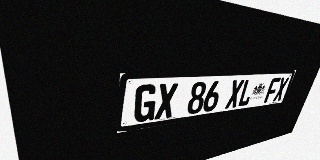6: (202, 80, 223, 112)
8: (186, 81, 208, 115)
F: (264, 78, 281, 103)
G: (133, 84, 158, 123)
L: (237, 79, 256, 107)
X: (154, 83, 178, 120), (225, 79, 245, 109), (273, 77, 290, 101)
